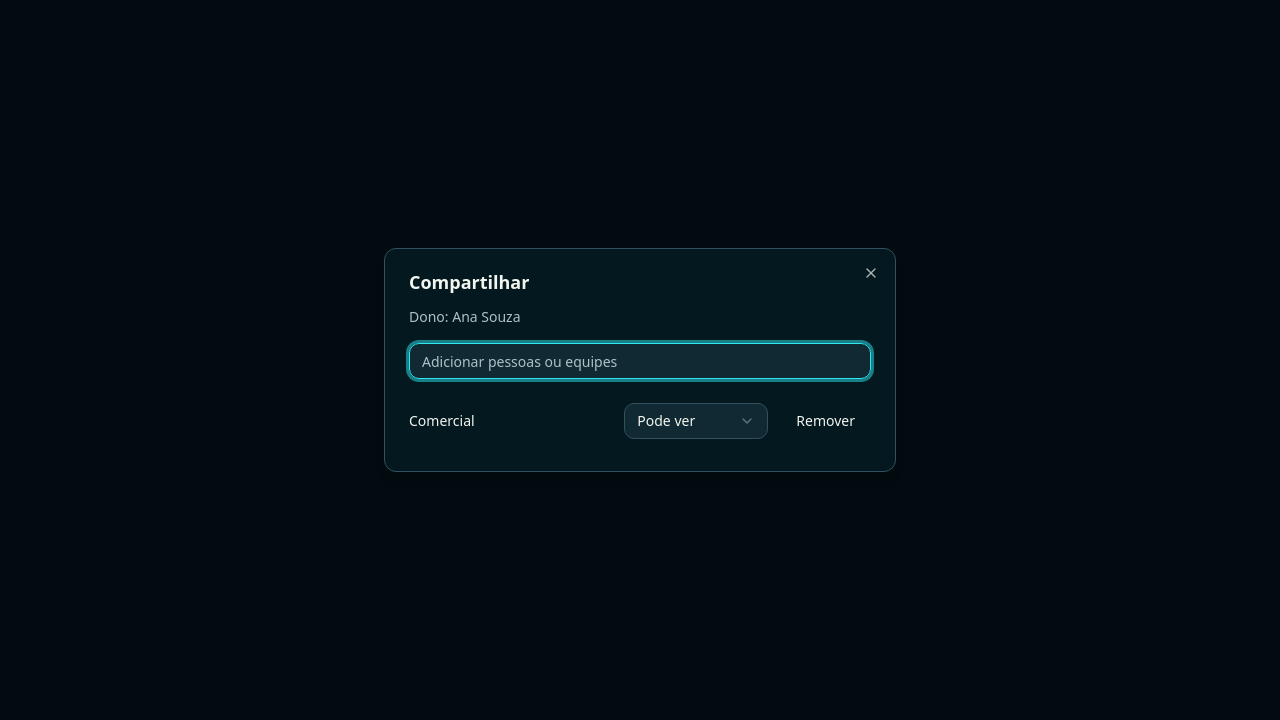
ShareDialog › SHARE-07 mudar a permissão de uma linha envia a nova permissão
Click the dropdown at (696, 421), box [624,403,768,439]
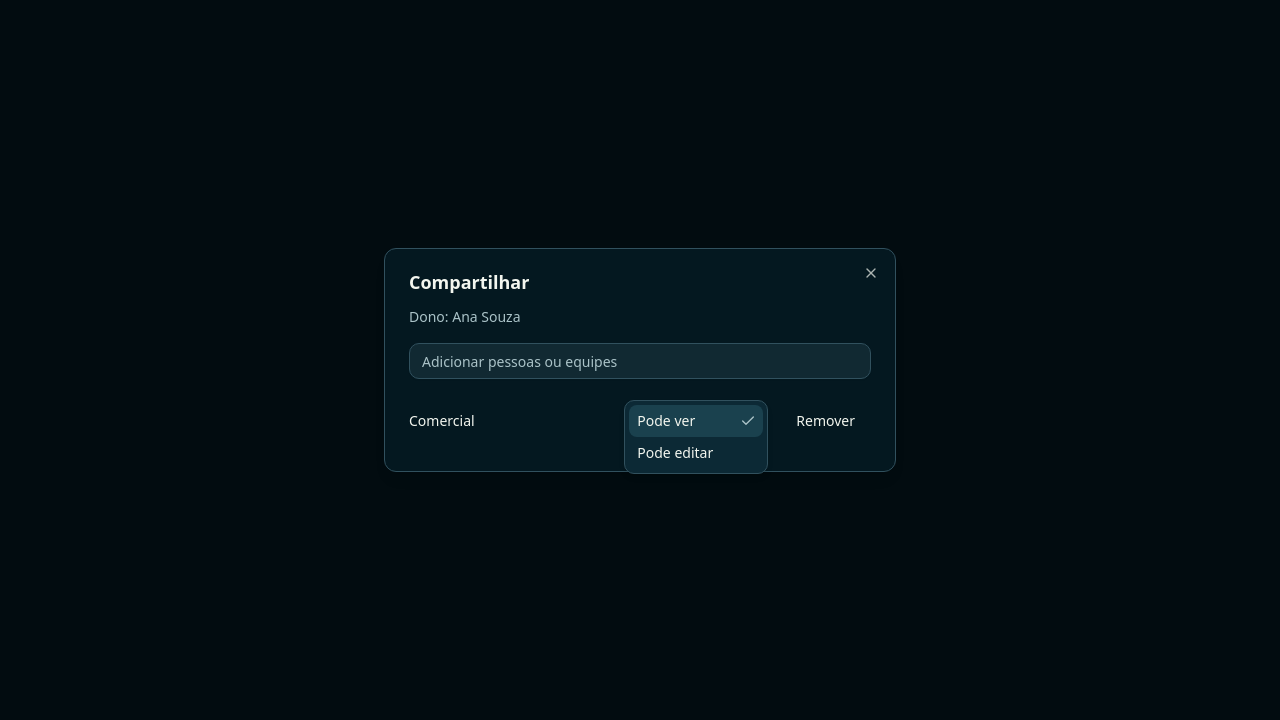
Click the option "Pode editar" at (675, 452), box [637,443,713,462]
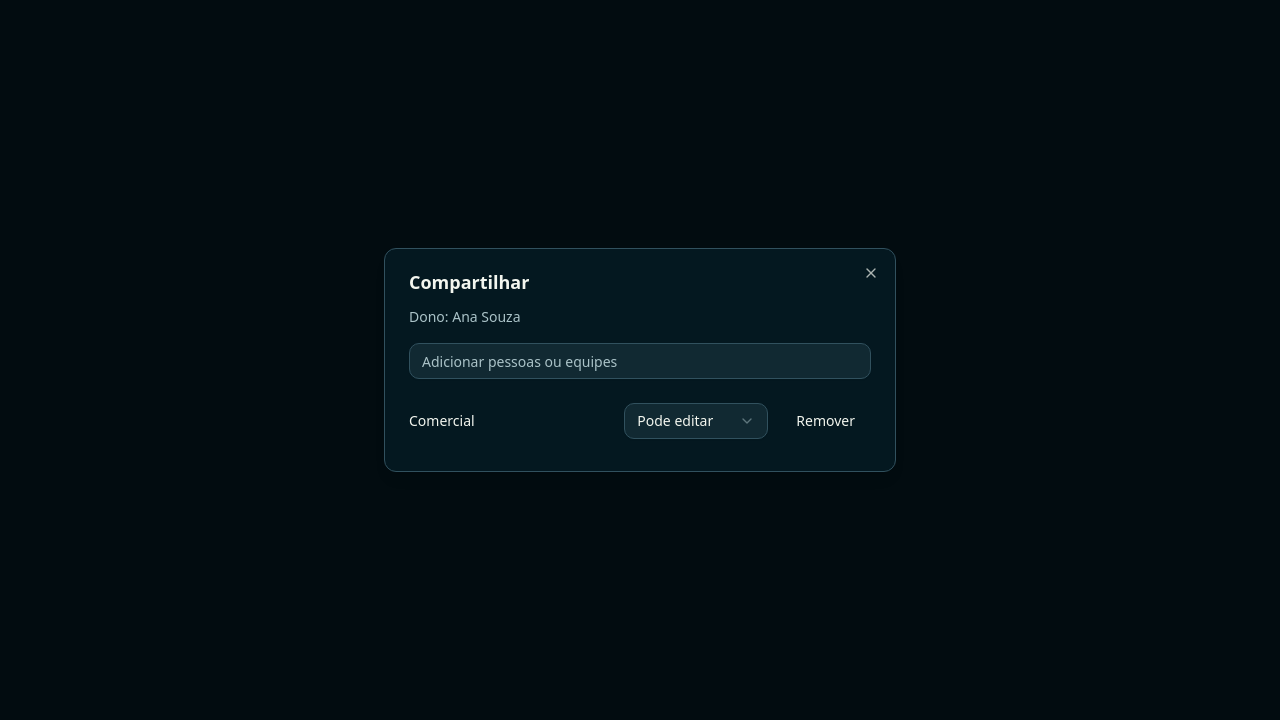
Expected: the dropdown reads "Pode editar", [624,403,768,439]
